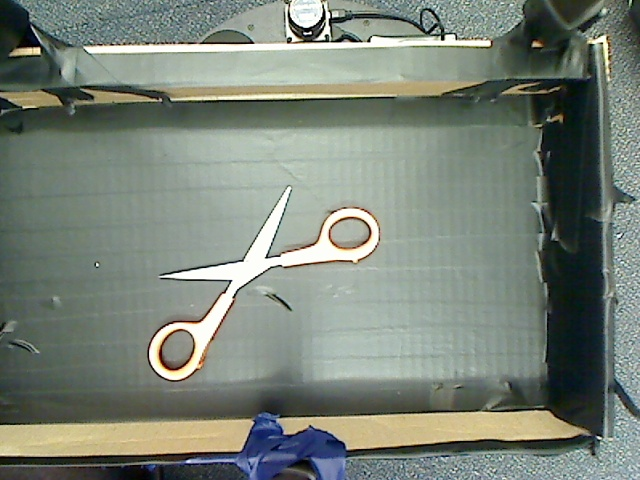scissors: (137, 144, 396, 385)
